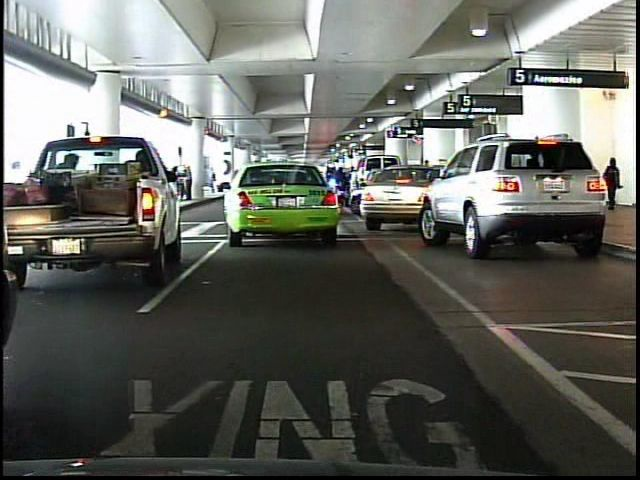person: (606, 158, 627, 216)
